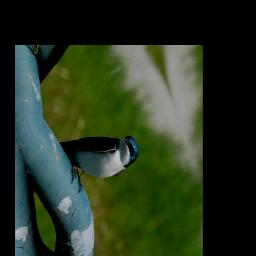Swallow: (57, 101, 144, 205)
